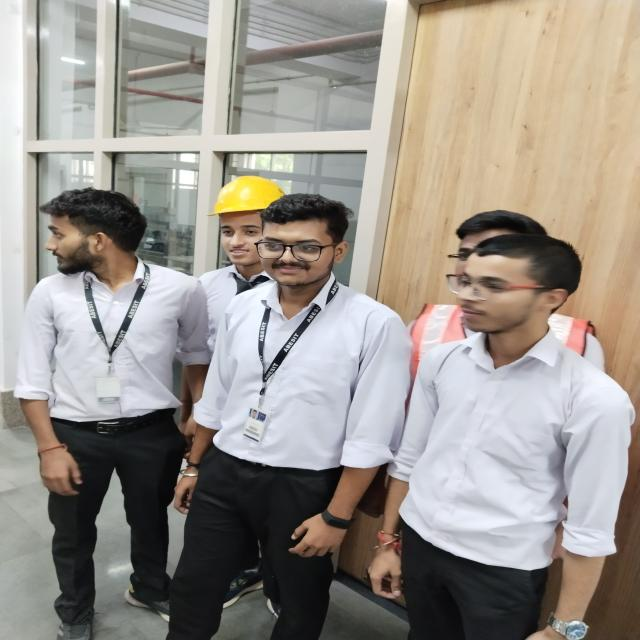no jacket: (206, 174, 280, 345)
unsafe: (413, 237, 638, 640), (216, 191, 408, 640), (22, 185, 210, 639)
